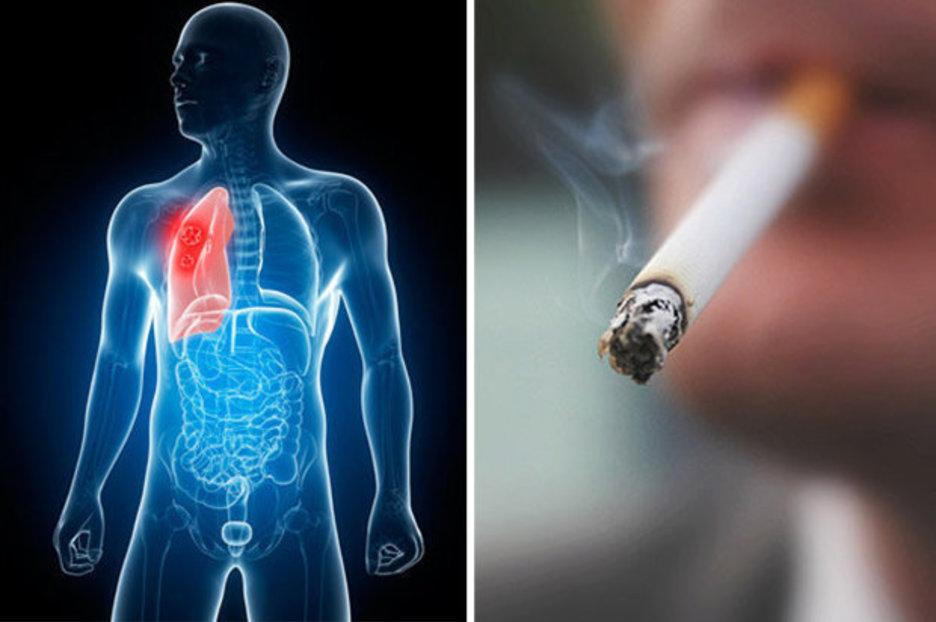cigarette: (598, 69, 850, 383)
